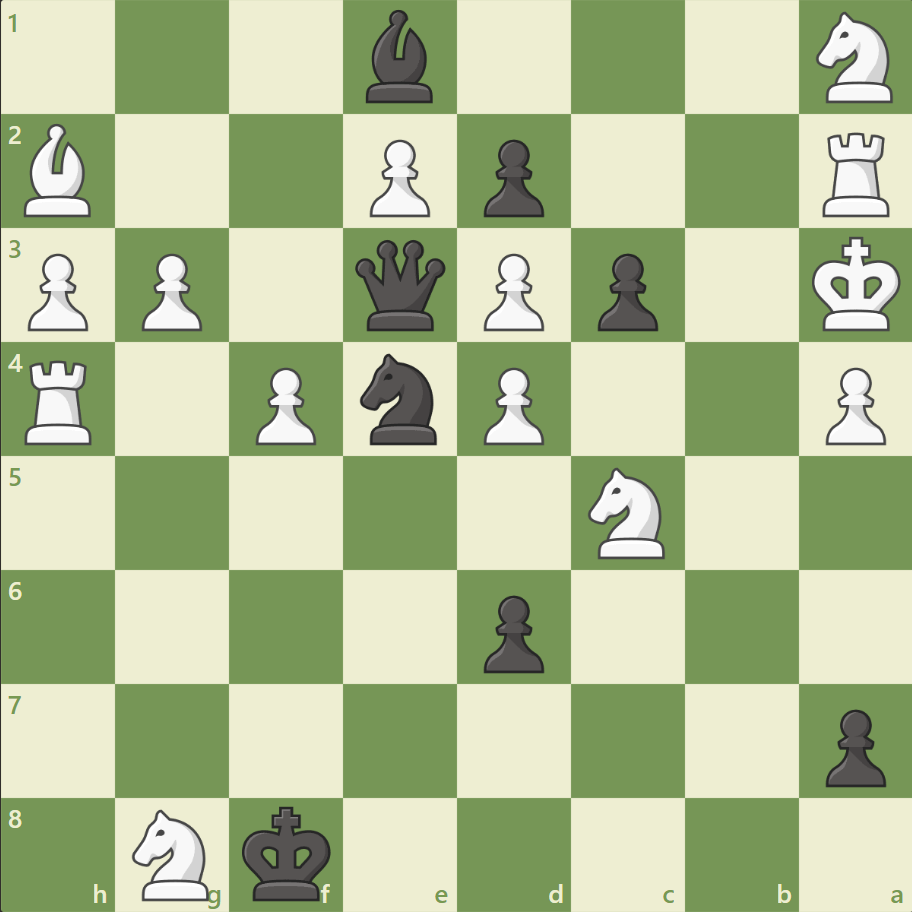B: (17, 120, 101, 222)
K: (806, 231, 906, 339)
N: (124, 802, 222, 904), (579, 461, 676, 564), (806, 7, 903, 110)
P: (474, 359, 549, 450), (247, 359, 322, 450), (474, 246, 549, 337), (133, 246, 208, 337), (20, 246, 95, 337), (815, 359, 889, 450), (361, 132, 435, 223)
R: (19, 352, 102, 449), (814, 125, 897, 222)
b: (358, 6, 442, 109)
k: (238, 798, 338, 906)
n: (351, 348, 449, 450)
p: (474, 586, 549, 677), (474, 132, 549, 223), (815, 700, 889, 791), (588, 246, 662, 337)
q: (351, 236, 450, 335)
